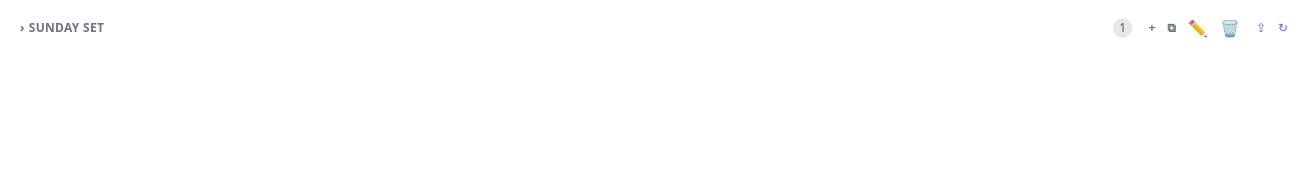
Test: CollectionGroup — one-click Push Update › shows "Link expired" when the server reports the link expired
Click the button named "Push update to Sunday Set". click: [1261, 28]
box: [1252,16,1270,40]
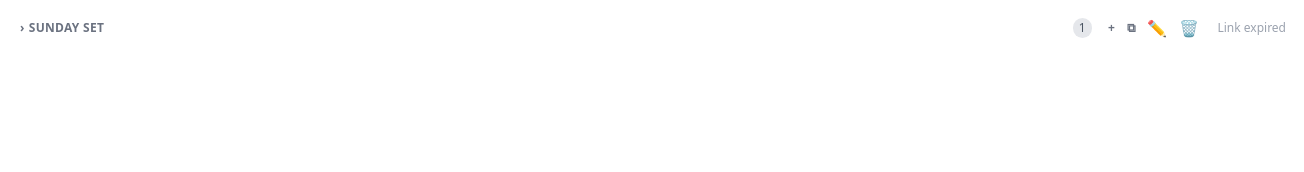
Check: the text "Link expired" is shown, box [1212,18,1292,38]
